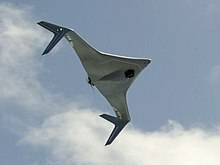maybay_khongnguoilai: (37, 21, 154, 146)
